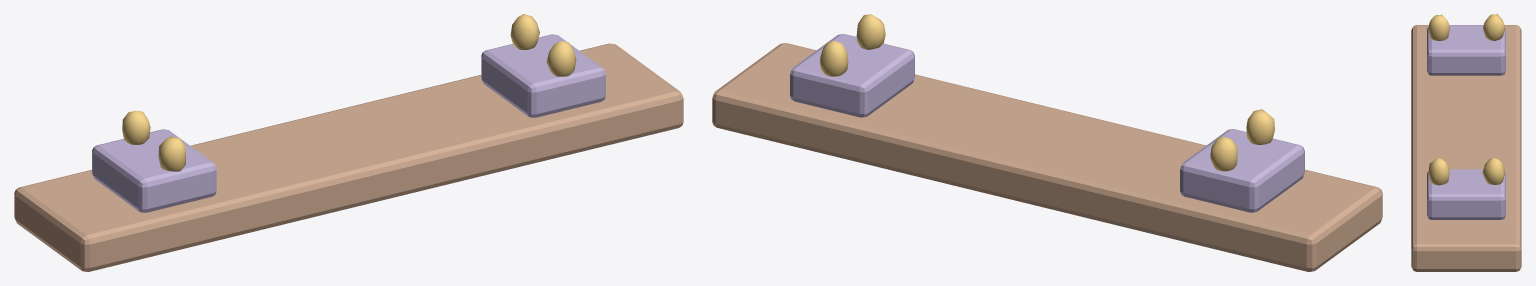
The model's file is lagoon_track_tie.glb.
3 renders of one model, left to right at view 1: azimuth 30°, elevation 25°; view 2: azimuth 150°, elevation 25°; view 3: azimuth 270°, elevation 25°, orthographic. The views are drawn at different scales.
Parts seen in each view (by area): view 1: lagoon_track_tie.001; view 2: lagoon_track_tie.001; view 3: lagoon_track_tie.001.
Part boxes in pixels (left/top/right/bottom): lagoon_track_tie.001: left=14, top=14, right=683, bottom=271; lagoon_track_tie.001: left=712, top=14, right=1382, bottom=271; lagoon_track_tie.001: left=1411, top=14, right=1521, bottom=271.
Bounding box in the file's own units: 4.8 × 0.7684 × 1.
